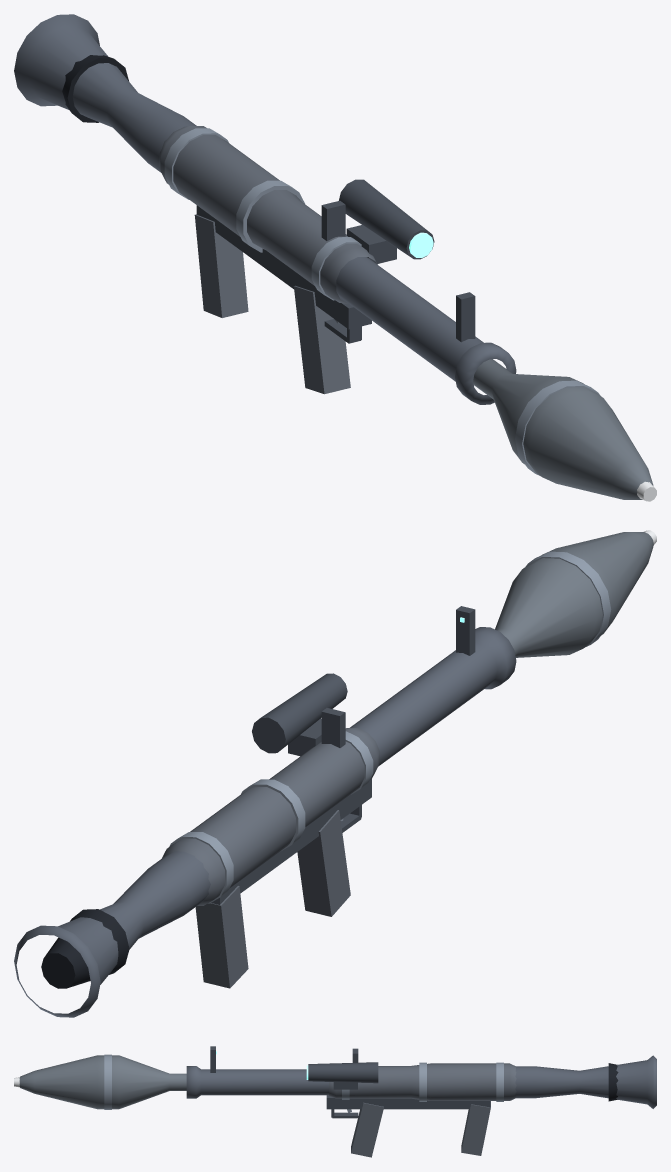
The model's file is weapon_rpg_tactical.glb.
3 views of the same model, one above another, from view 1: azimuth 30°, elevation 25°; view 2: azimuth 150°, elevation 25°; view 3: azimuth 270°, elevation 25° (orthographic). The views are drawn at different scales.
Parts seen in each view (by area): view 1: Weapon_rpg, RPGLaunchTube, rocket; view 2: Weapon_rpg, RPGLaunchTube, rocket; view 3: Weapon_rpg, RPGLaunchTube, rocket.
Boxes of the visible parts, x1=… form: Weapon_rpg: x1=62, y1=55, x2=475, y2=394; RPGLaunchTube: x1=14, y1=14, x2=516, y2=404; rocket: x1=473, y1=359, x2=656, y2=501; Weapon_rpg: x1=41, y1=606, x2=475, y2=988; RPGLaunchTube: x1=14, y1=627, x2=516, y2=1017; rocket: x1=495, y1=530, x2=656, y2=657; Weapon_rpg: x1=210, y1=1046, x2=618, y2=1157; RPGLaunchTube: x1=186, y1=1055, x2=656, y2=1108; rocket: x1=14, y1=1054, x2=186, y2=1109.
Size of the model in its own units: 0.1355 by 0.2424 by 1.33.
